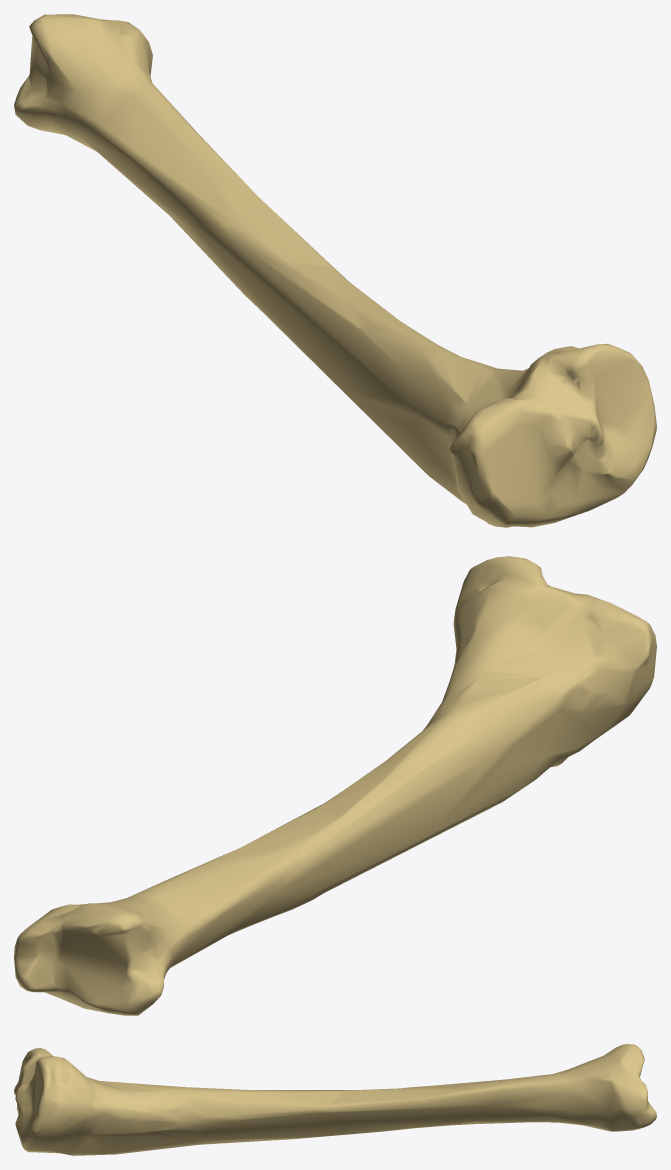
The picture shows the model from 3 angles, top to bottom: view 1: azimuth 30°, elevation 25°; view 2: azimuth 150°, elevation 25°; view 3: azimuth 270°, elevation 25°; orthographic projection. The views are drawn at different scales.
Parts seen in each view (by area): view 1: 右侧胫骨; view 2: 右侧胫骨; view 3: 右侧胫骨.
Part boxes in pixels (x1,y1,x2,y2): 右侧胫骨: (14,14,656,527); 右侧胫骨: (14,556,656,1015); 右侧胫骨: (14,1044,656,1155).
Bounding box in the file's own units: 0.1156 × 0.1002 × 0.5274.
